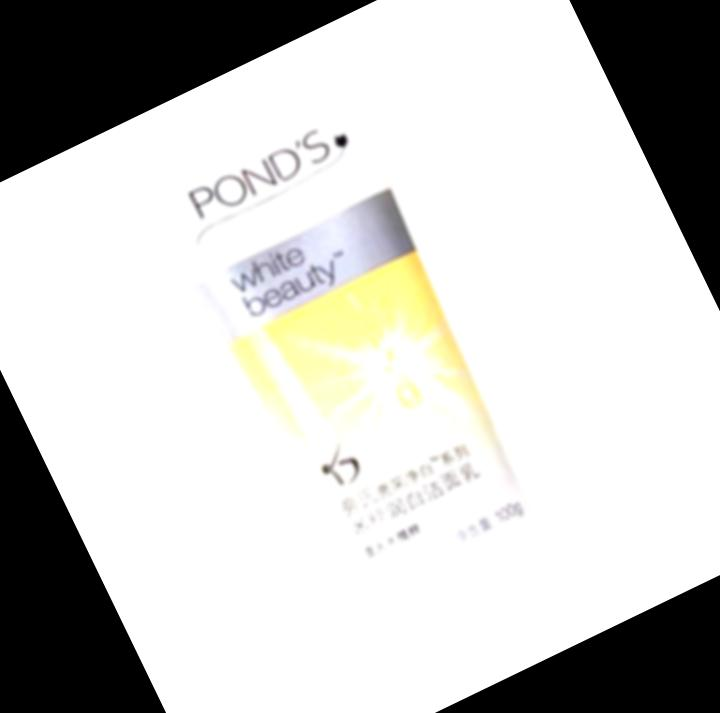cosmetic: (111, 50, 608, 713)
